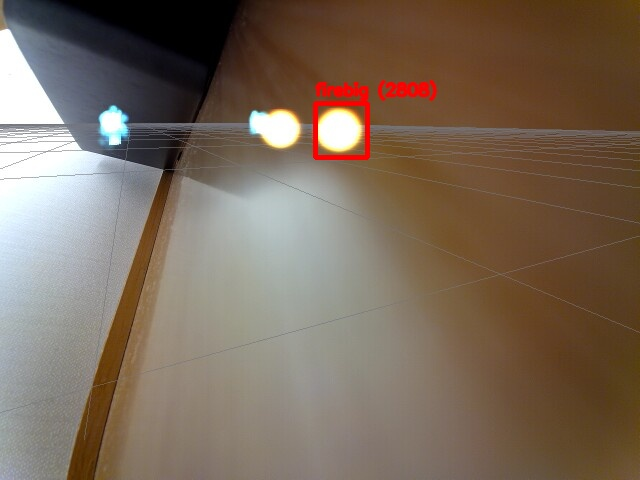firebig: (315, 103, 367, 157)
